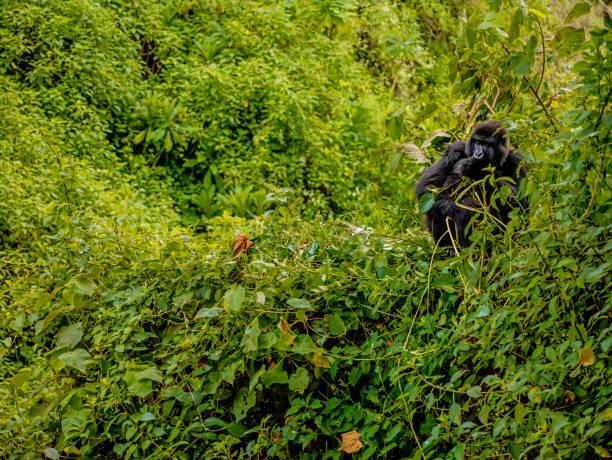goriile_montagne: (410, 116, 530, 239)
